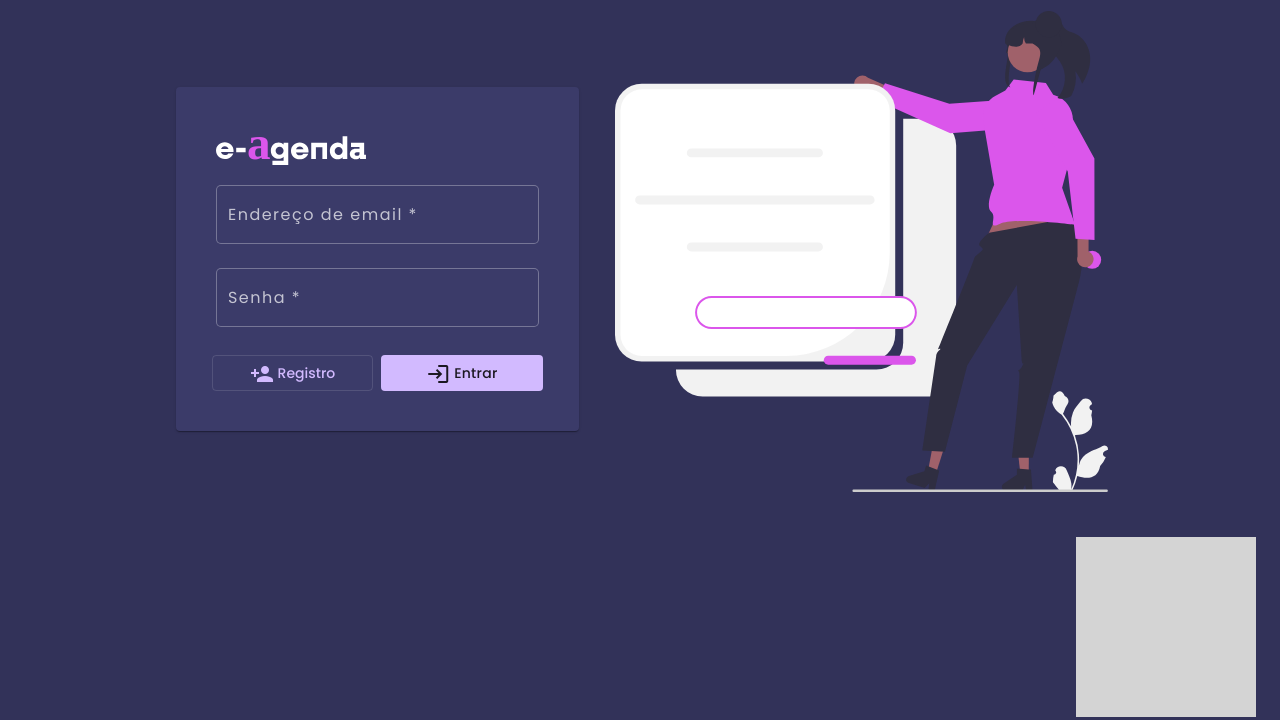
Scenario: Processo de Login do Usuário › Deve notificar sobre formulário inválido
Type "tiago" into the field with test id "txtEmail" at (378, 219), box [228,210,527,228]
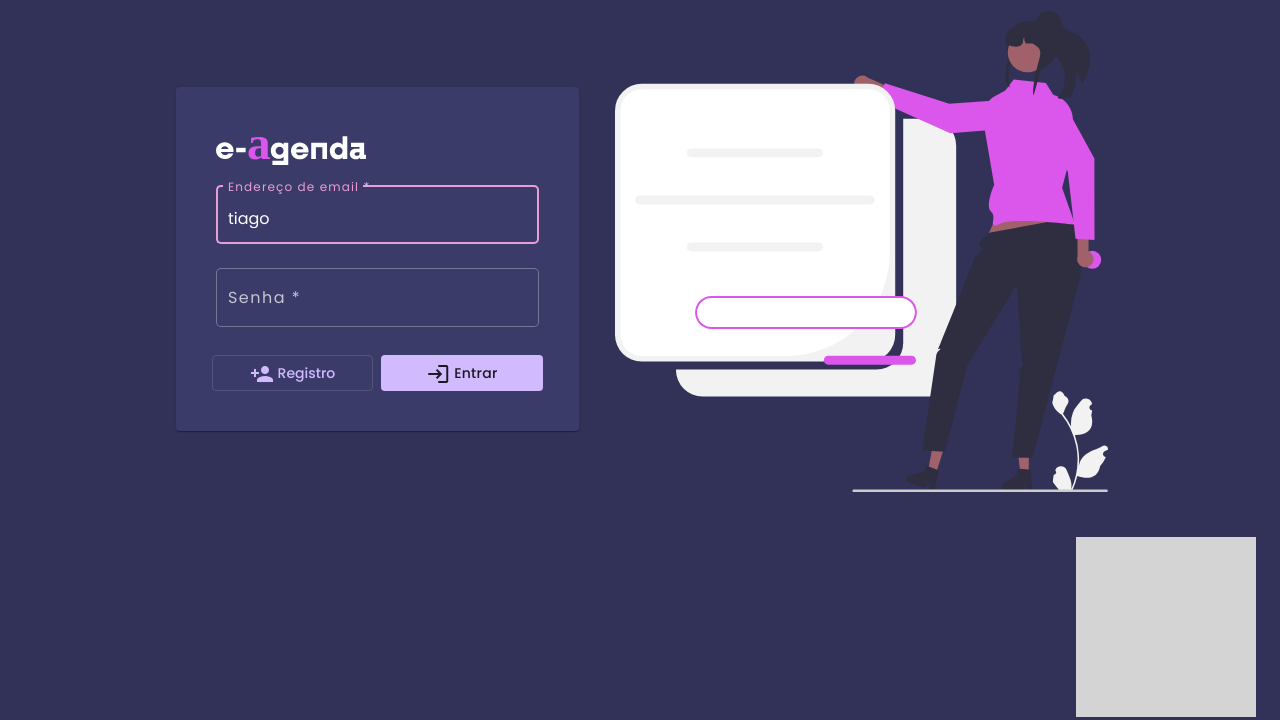
Type "Teste@123" into the password field with test id "txtSenha" at (378, 302), box [228,293,527,311]
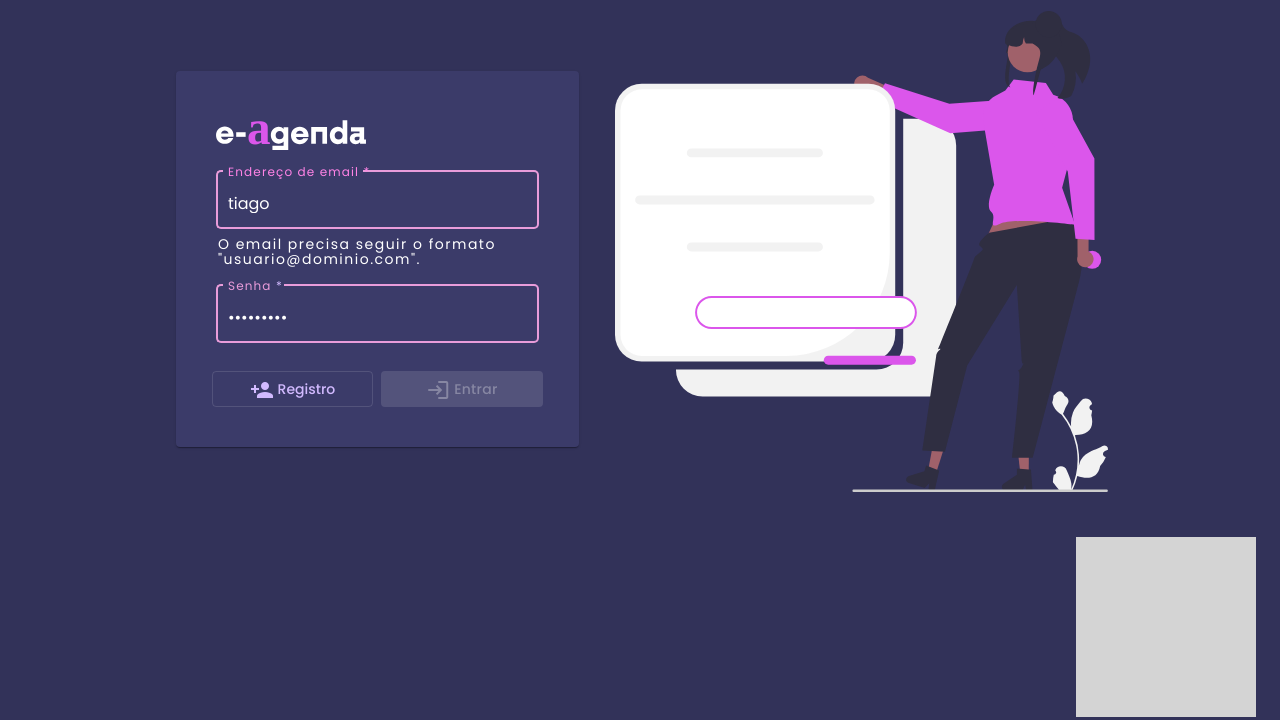
Click the button with test id "btnEntrar" at (462, 389), box [381,371,542,407]
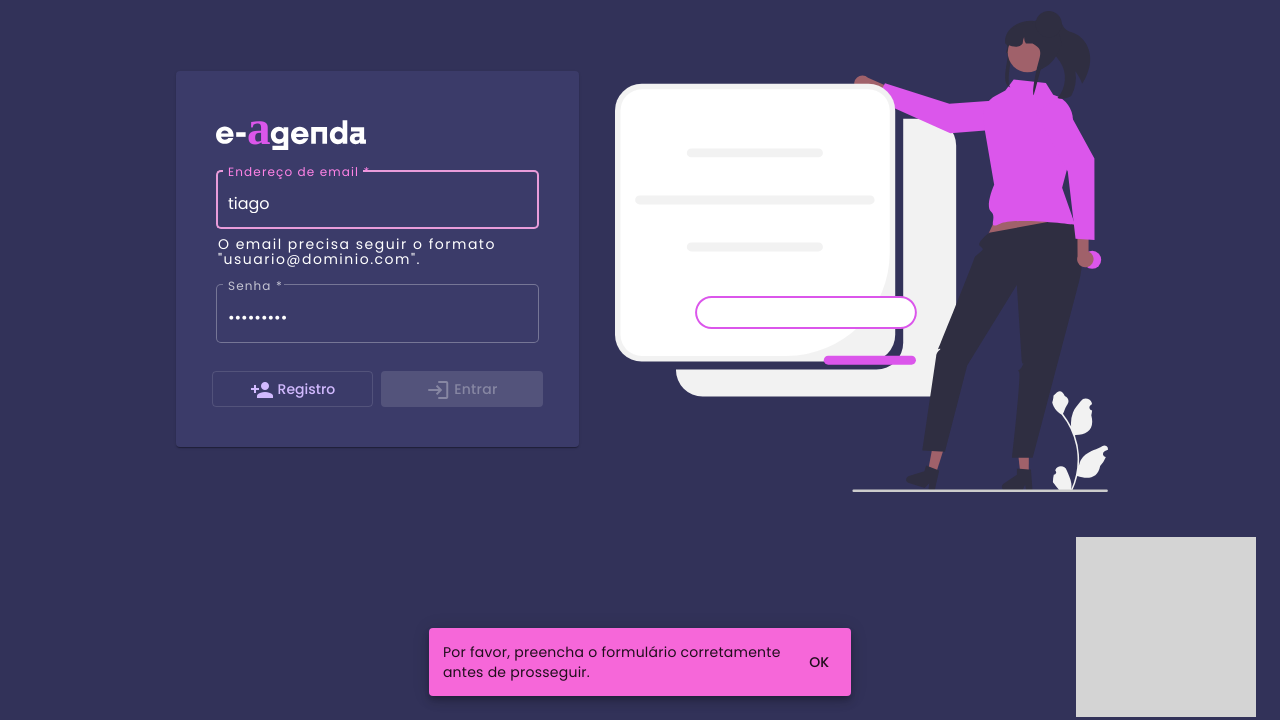
expect the text "Por favor, preencha o formulário corretamente antes de prosseguir." is shown: met, box [443,642,785,682]
